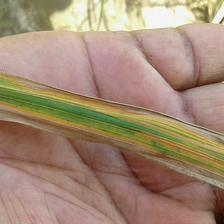2 BacterialBlight: (19, 68, 195, 171)
